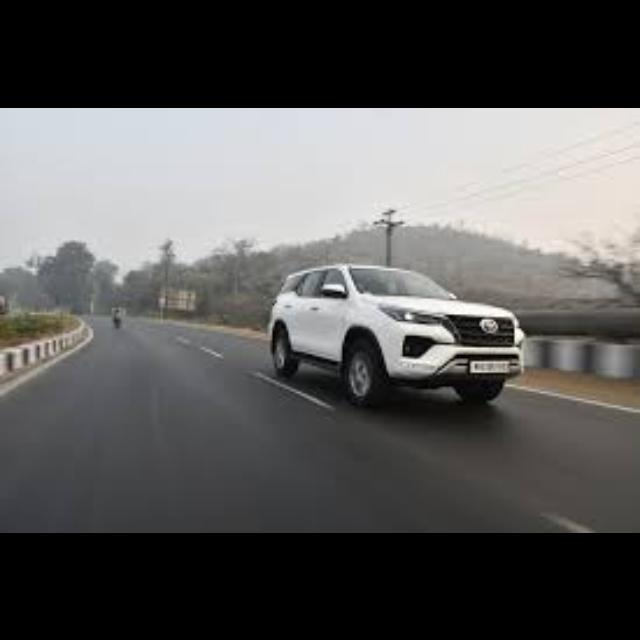number-plate: (468, 358, 510, 372)
vehicles: (261, 258, 526, 412)
